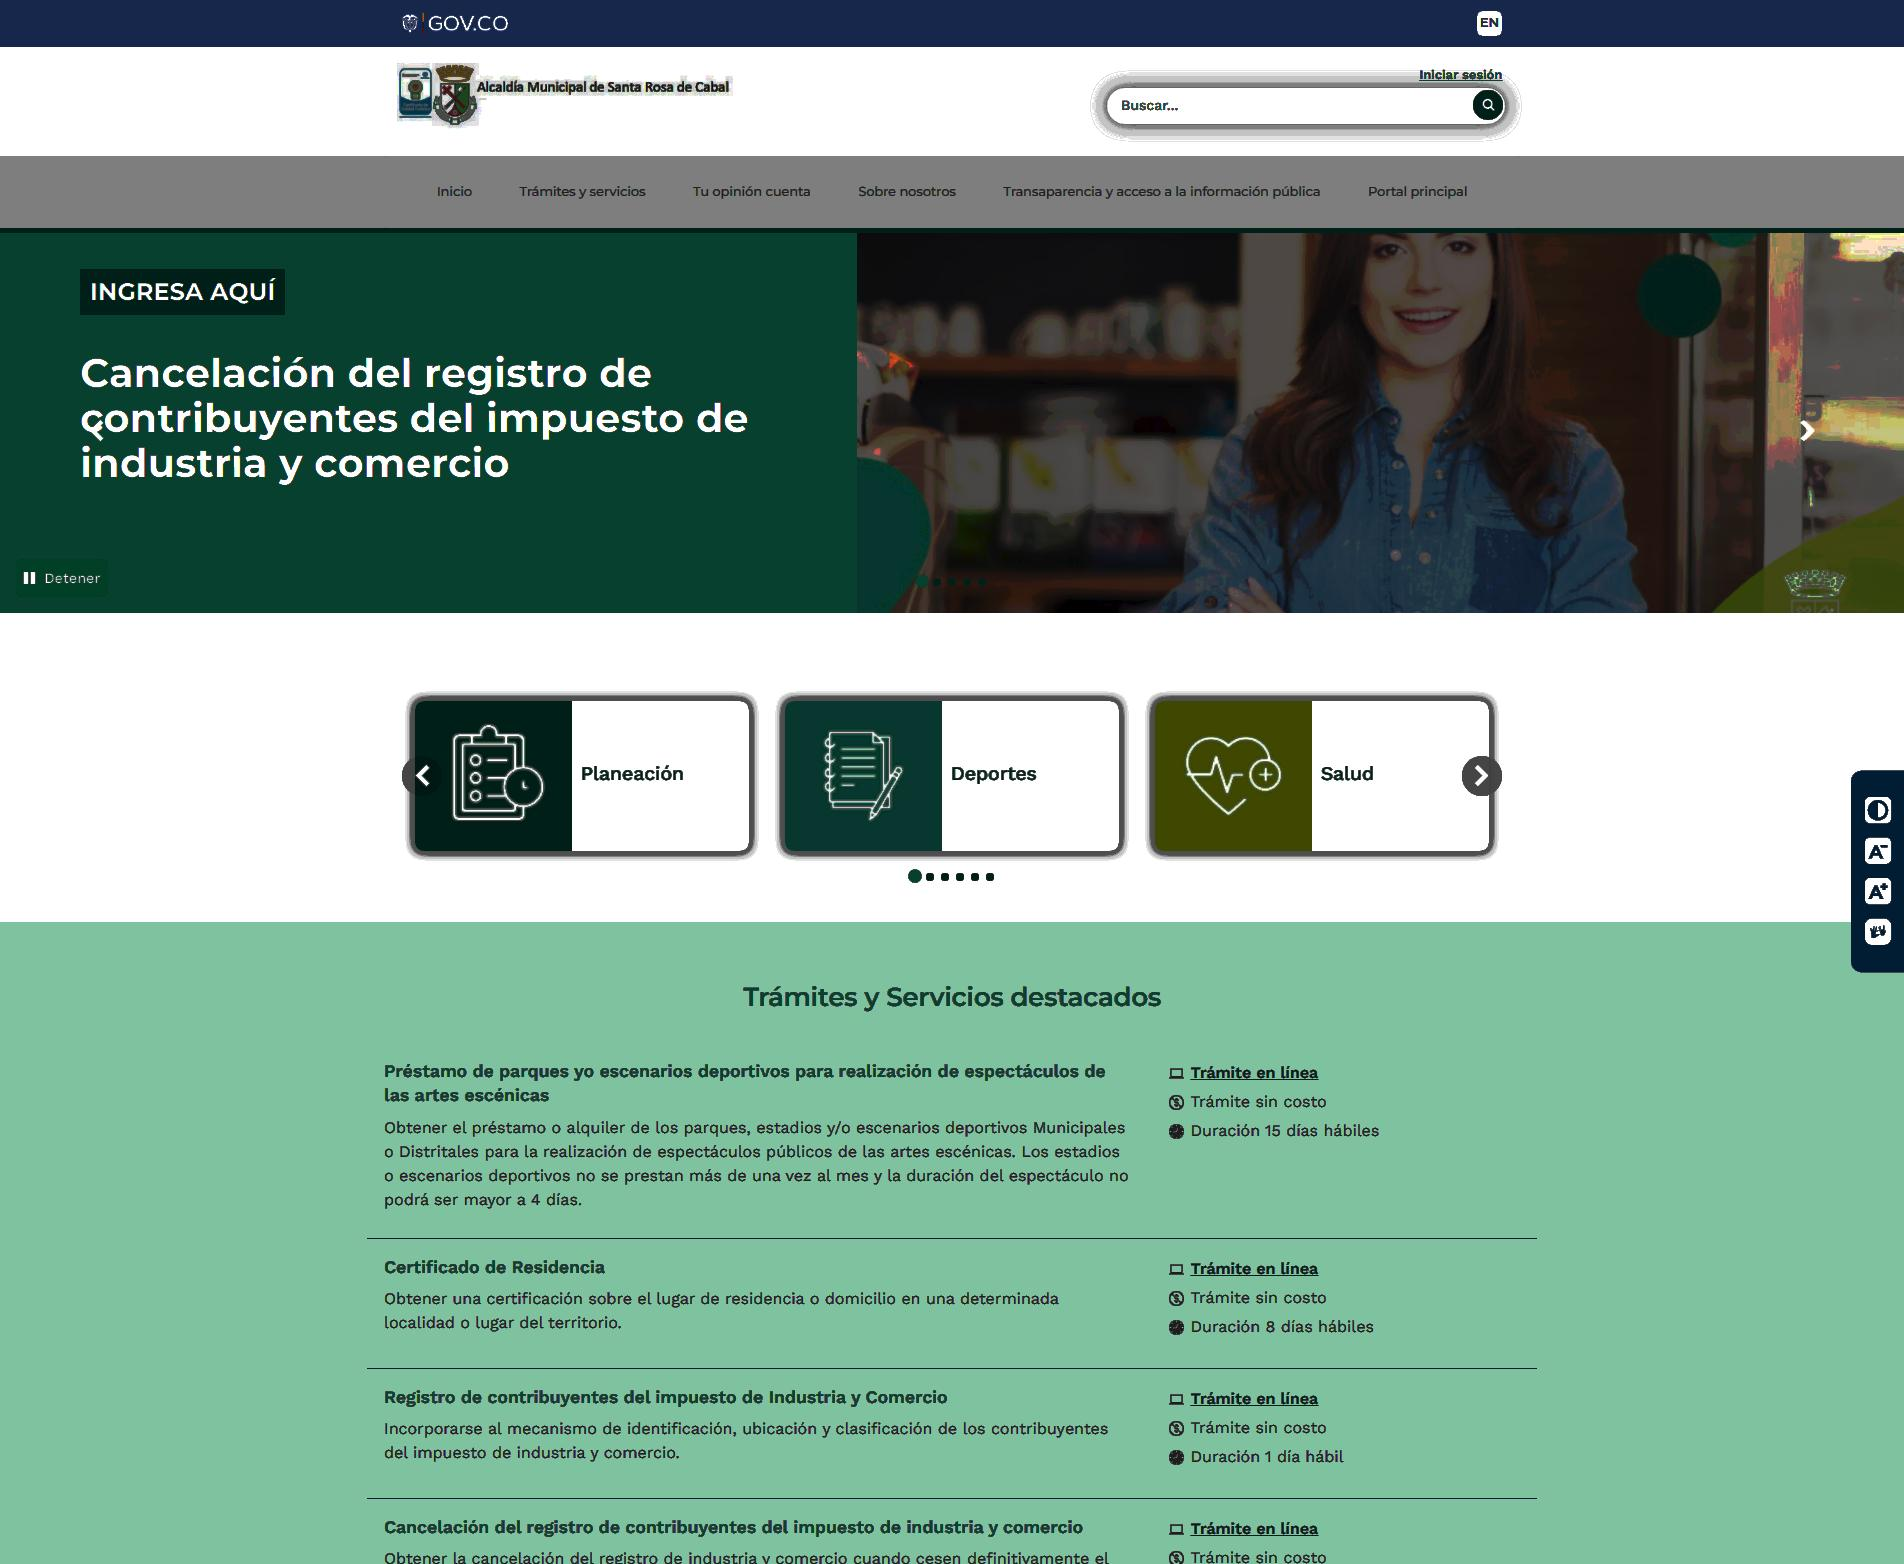banner principal: (0, 225, 1902, 617)
barra accesibilidad: (1848, 766, 1904, 973)
barra govco: (395, 0, 1505, 50)
btn buscador: (1103, 85, 1505, 128)
btn idiomas: (1474, 10, 1503, 37)
btn inicio: (434, 180, 476, 203)
btn inicio sesion: (1416, 68, 1505, 84)
btn tramites: (725, 973, 1183, 1017), (516, 179, 651, 206)
btn transpariencia: (1002, 183, 1324, 206)
logogovco: (399, 9, 511, 38)
menu principal: (432, 170, 1477, 219)
